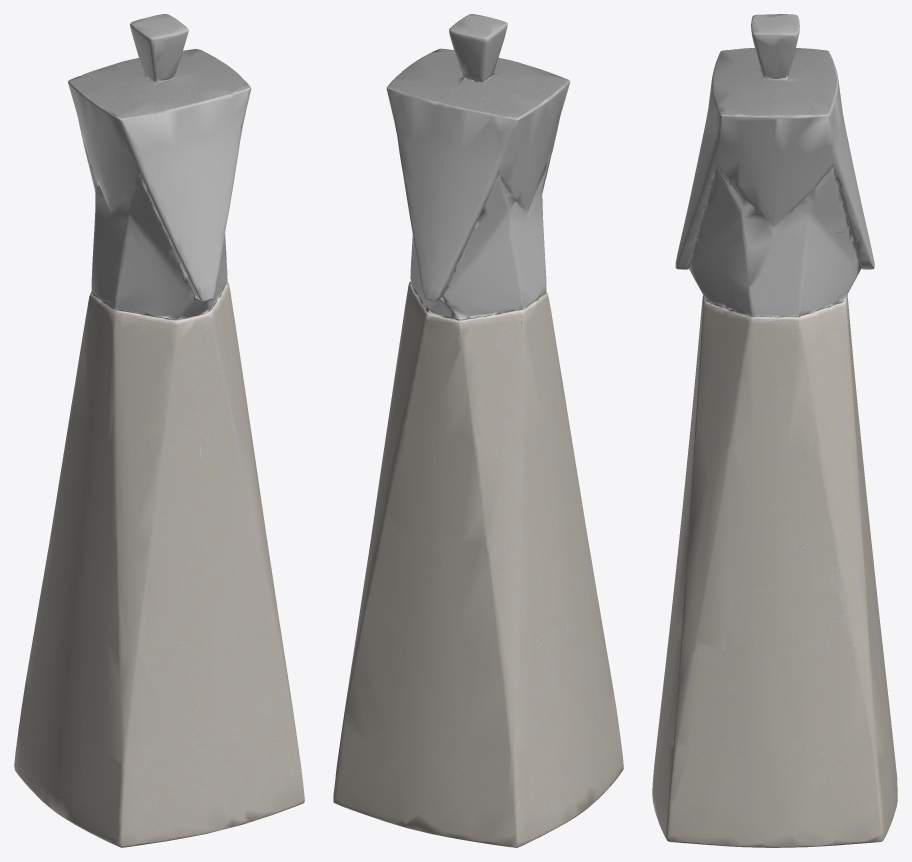
Rendered from king-white.glb.
3 views of the same model, side by side, from view 1: azimuth 30°, elevation 25°; view 2: azimuth 150°, elevation 25°; view 3: azimuth 270°, elevation 25° (orthographic).
Size of the model in its own units: 0.4989 by 1.75 by 0.4985.
1 material, 1 textured.
